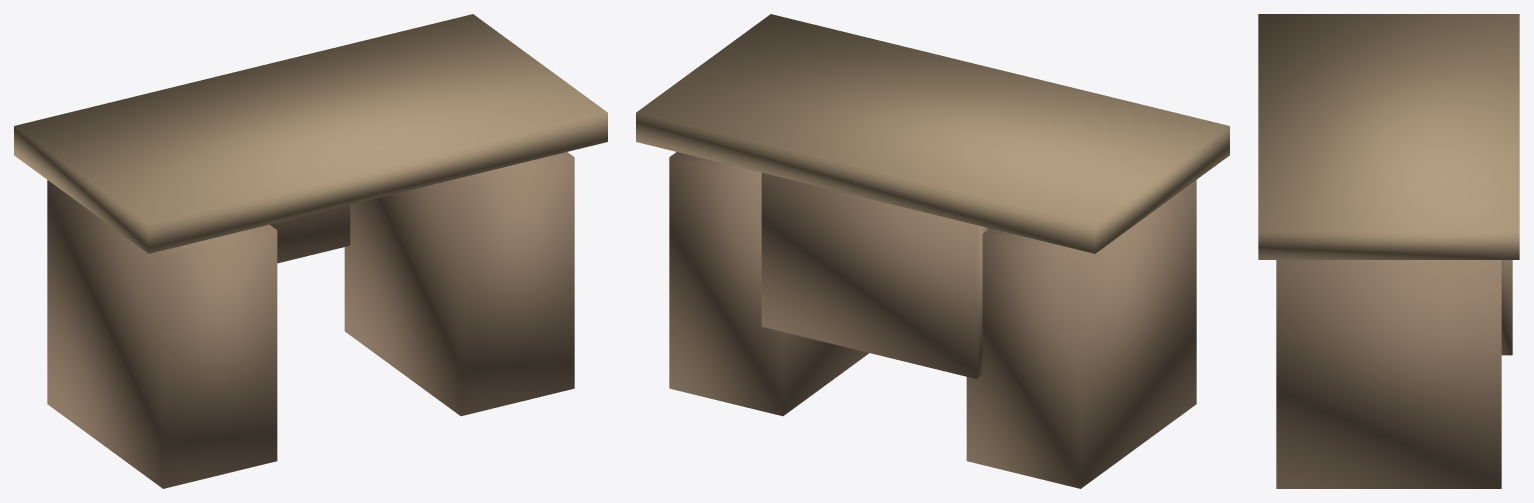
The model's file is office_desk__compact.glb.
3 renders of one model, left to right at view 1: azimuth 30°, elevation 25°; view 2: azimuth 150°, elevation 25°; view 3: azimuth 270°, elevation 25°, orthographic. The views are drawn at different scales.
Parts seen in each view (by area): view 1: world; view 2: world; view 3: world.
Boxes of the visible parts, x1,y1,x2,y2 form: world: [14, 14, 607, 488]; world: [636, 14, 1229, 488]; world: [1258, 14, 1519, 488].
Size of the model in its own units: 1.22 by 0.7021 by 0.6192.
